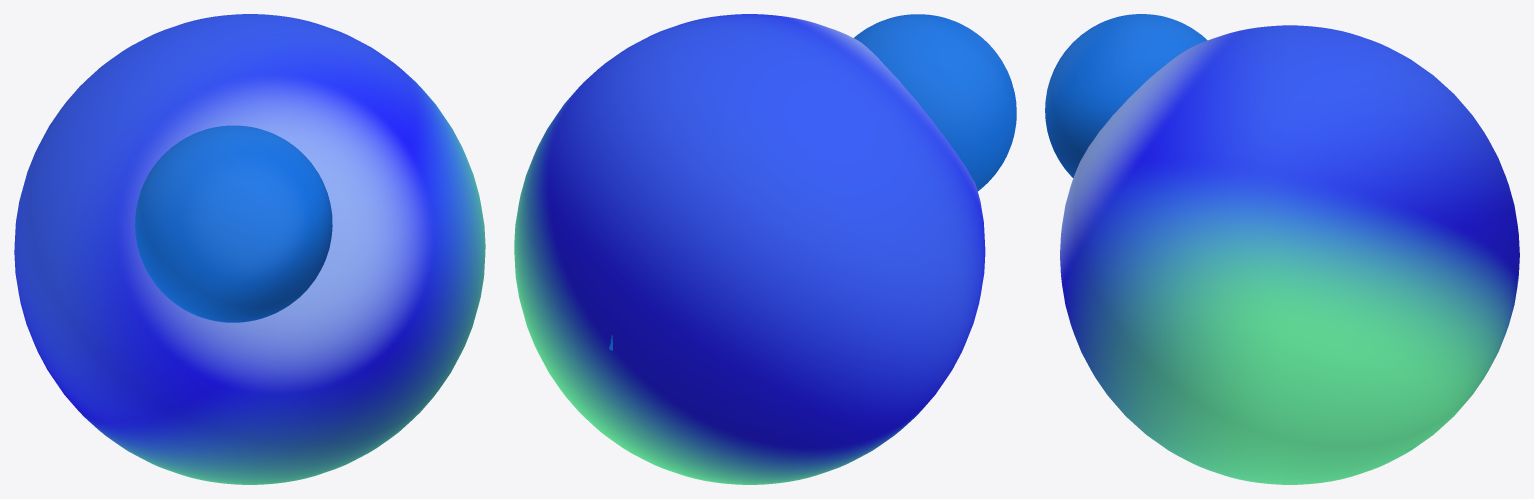
Rendered from orbcube.glb.
3 renders of one model, left to right at view 1: azimuth 30°, elevation 25°; view 2: azimuth 150°, elevation 25°; view 3: azimuth 270°, elevation 25°, orthographic. The views are drawn at different scales.
Visible parts, largest first — view 1: Sphere.012; view 2: Sphere.012; view 3: Sphere.012.
Part boxes in pixels (x1,y1,x2,y2): Sphere.012: [14, 14, 485, 484]; Sphere.012: [514, 14, 1016, 484]; Sphere.012: [1045, 14, 1519, 484].
Size of the model in its own units: 1.24 by 1.24 by 1.28.
1 material, 1 textured.
